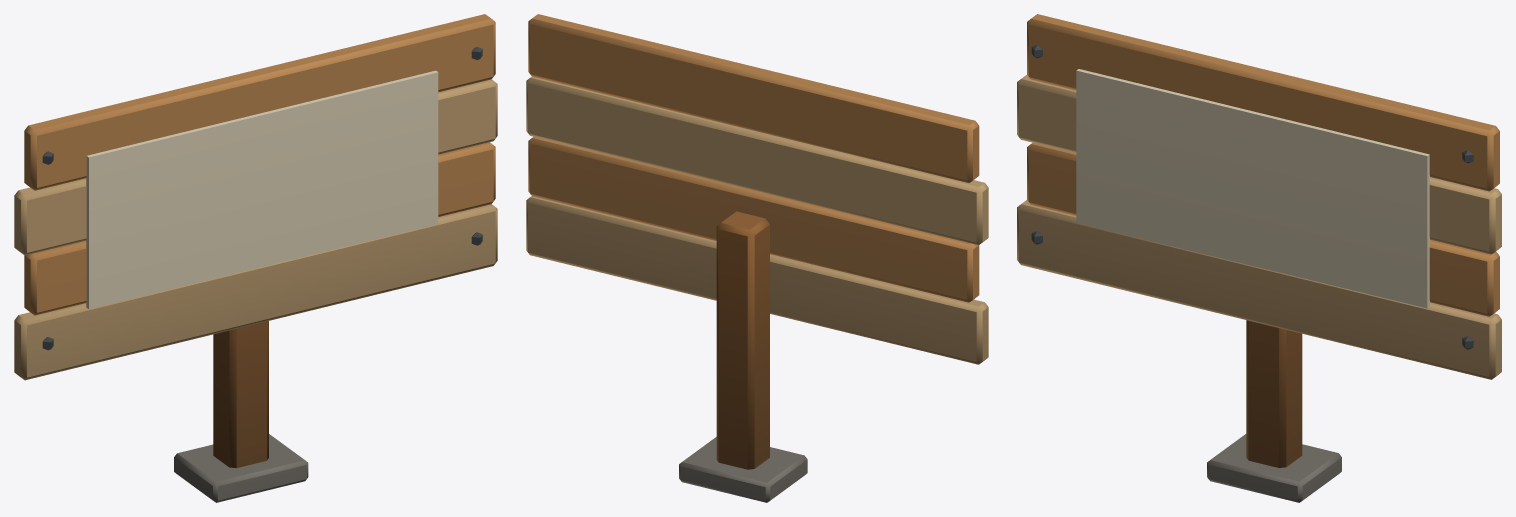
The model's file is 194_panneau_parcelle.fbx.
3 renders of one model, left to right at view 1: azimuth 30°, elevation 25°; view 2: azimuth 150°, elevation 25°; view 3: azimuth 330°, elevation 25°, orthographic. The views are drawn at different scales.
Visible parts, largest first — view 1: Panneau, Pied; view 2: Panneau, Pied; view 3: Panneau, Pied.
Boxes of the visible parts, <box> form: Panneau: <box>14,14,497,380</box>; Pied: <box>174,321,308,502</box>; Panneau: <box>526,14,988,364</box>; Pied: <box>679,211,807,502</box>; Panneau: <box>1017,14,1501,379</box>; Pied: <box>1207,320,1341,502</box>.
Bounding box in the file's own units: 1.68 × 1.4 × 0.28.
Materials: 1 (1 with a texture image).
